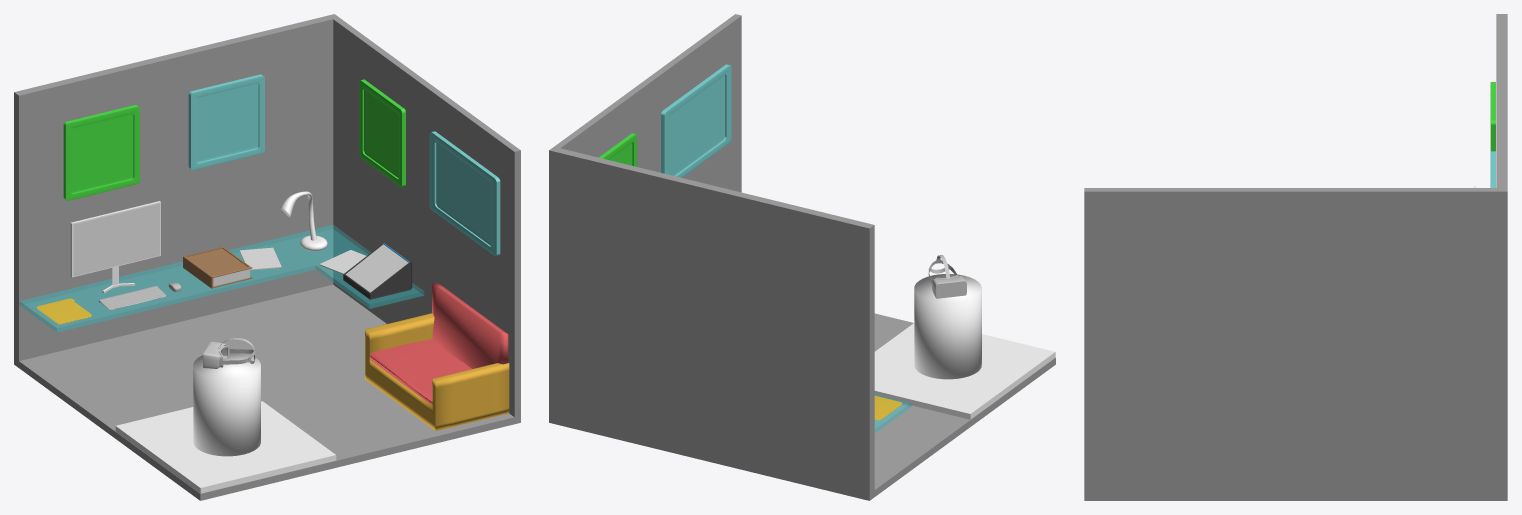
Rendered from VR Therapy Scene.glb.
The picture shows the model from 3 angles, left to right: view 1: azimuth 30°, elevation 25°; view 2: azimuth 150°, elevation 25°; view 3: azimuth 270°, elevation 25°; orthographic projection. The views are drawn at different scales.
Parts seen in each view (by area): view 1: Plane, Cube, Cube.016, Cube.002, Cylinder.001, Cube.013, Cube.012, Cube.015, Plane.001, Cube.004, Cube.014, Cube.003 (+10 smaller); view 2: Plane, Cube.016, Cylinder.001, Cube.015, Body, Cube.014; view 3: Plane.
Part boxes in pixels (box(x1,y1,x2,y2)): Plane: box(14, 14, 520, 500); Cube: box(20, 225, 423, 332); Cube.016: box(115, 401, 336, 493); Cube.002: box(365, 313, 509, 430); Cylinder.001: box(193, 353, 260, 456); Cube.013: box(188, 74, 264, 170); Cube.012: box(63, 105, 139, 200); Cube.015: box(429, 131, 500, 255); Plane.001: box(73, 203, 159, 276); Cube.004: box(432, 282, 508, 368); Cube.014: box(359, 79, 405, 187); Cube.003: box(370, 339, 471, 404); Plane: box(549, 14, 1055, 500); Cube.016: box(874, 323, 1055, 419); Cylinder.001: box(914, 274, 981, 379); Cube.015: box(661, 64, 731, 177); Body: box(928, 255, 966, 298); Cube.014: box(599, 133, 636, 166); Plane: box(1084, 14, 1507, 500).
Size of the model in its own units: 8.65 by 7.03 by 8.71.
